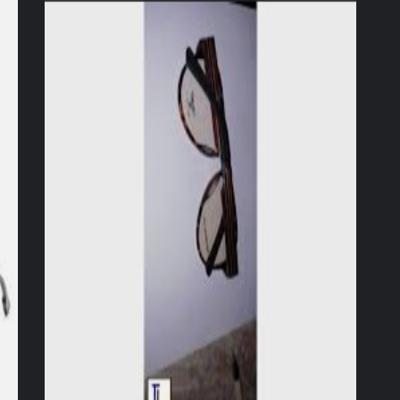glasses: (174, 31, 249, 294)
